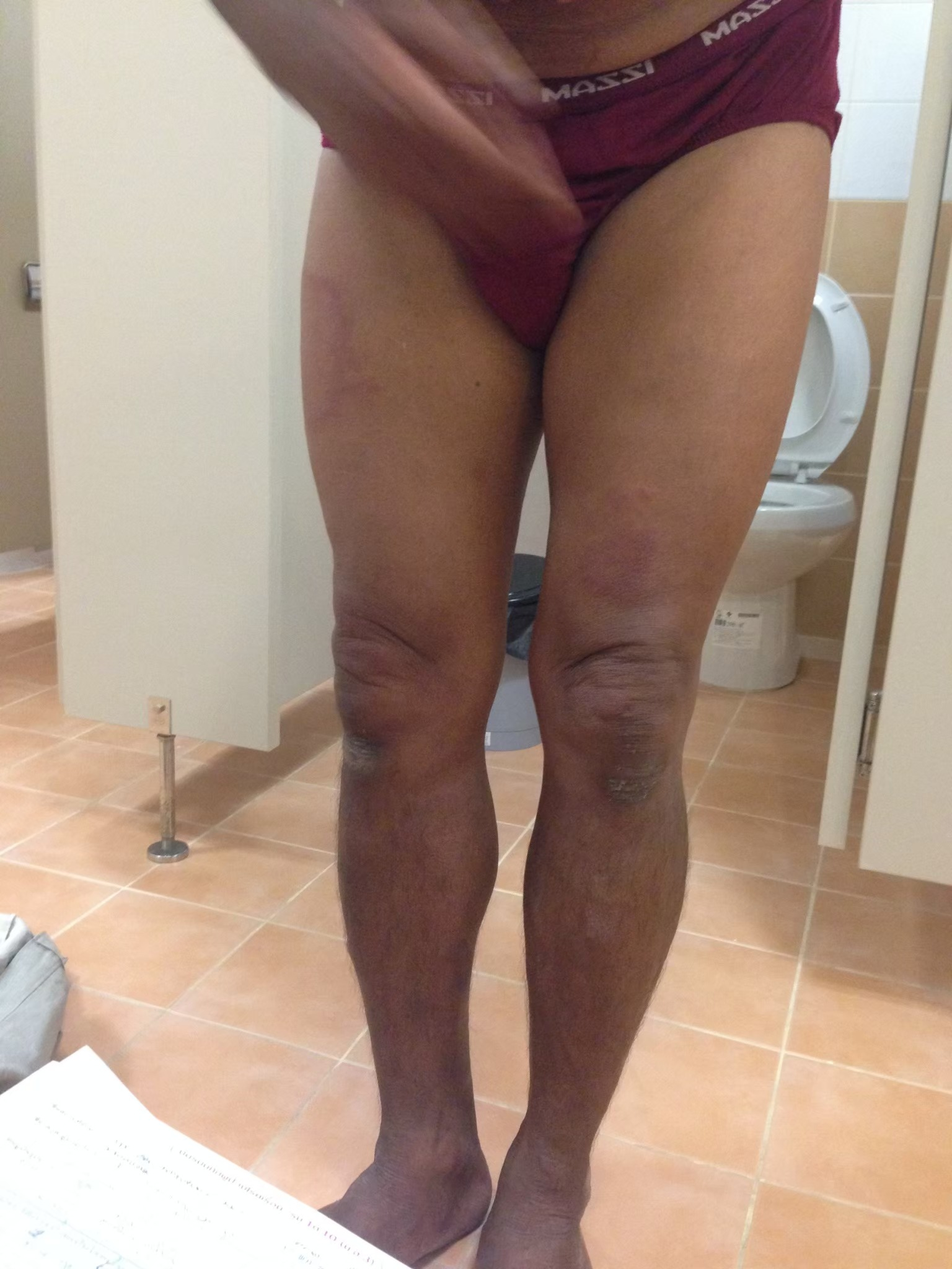Leprosy: (575, 479, 664, 623), (302, 277, 369, 439)
